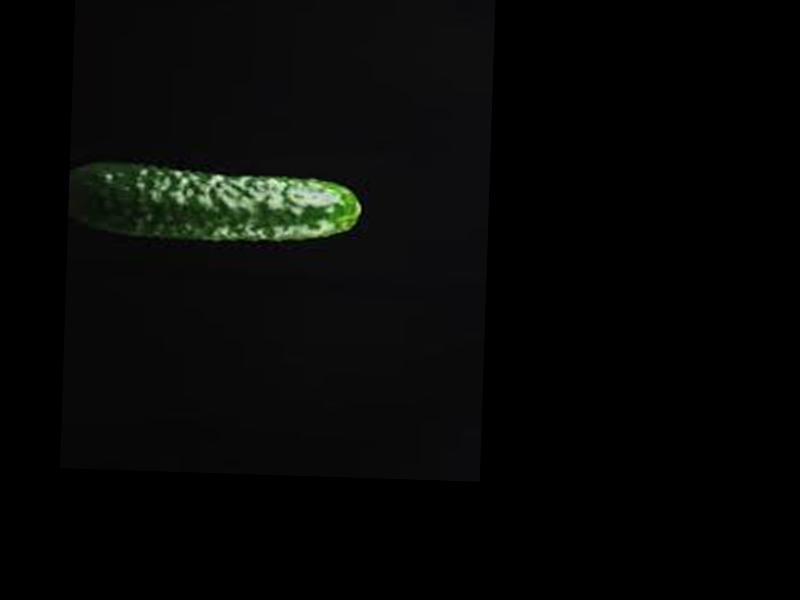Cucumber: (67, 159, 364, 245)
